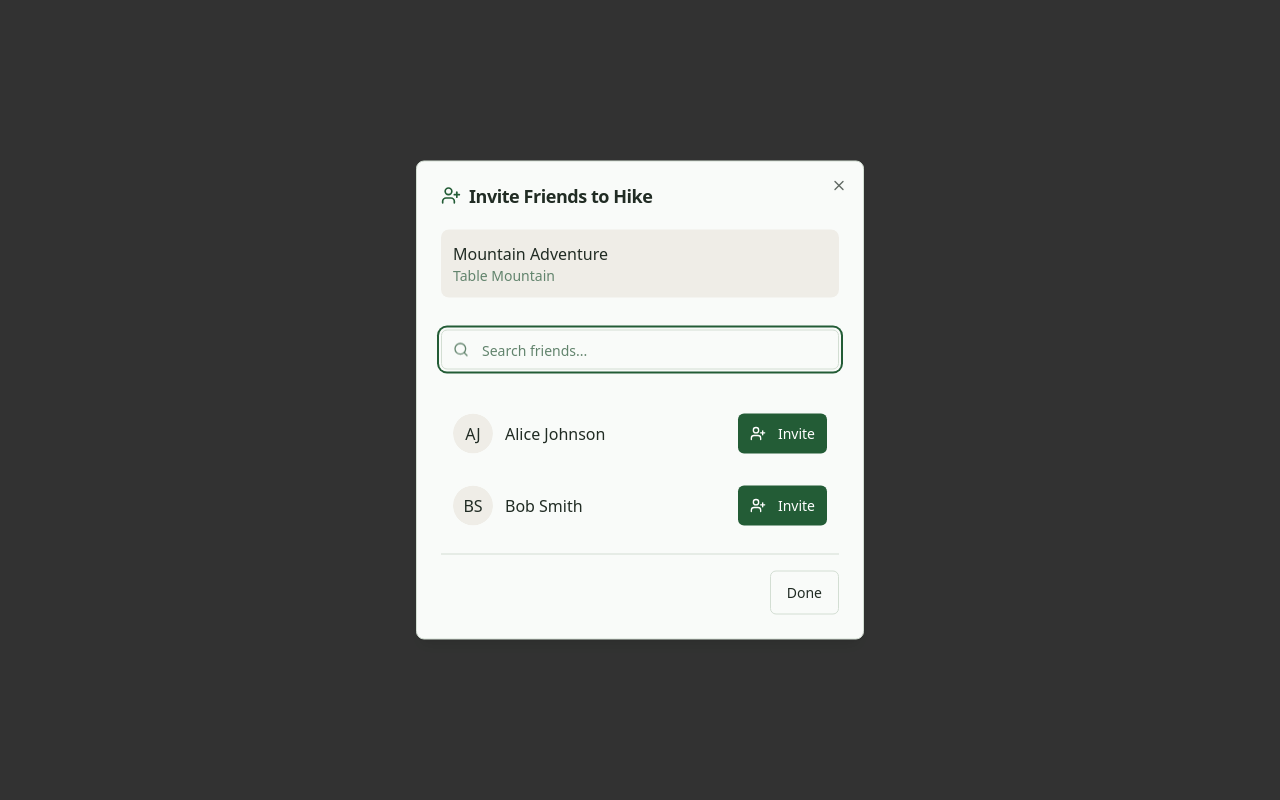
FriendInviteDialog Component › filters friends by search term
Expected: the text "Alice Johnson" is shown, [505,422,605,446]
In the field with placeholder "Search friends...": (640, 350) [441,330,839,370], type "Bob"
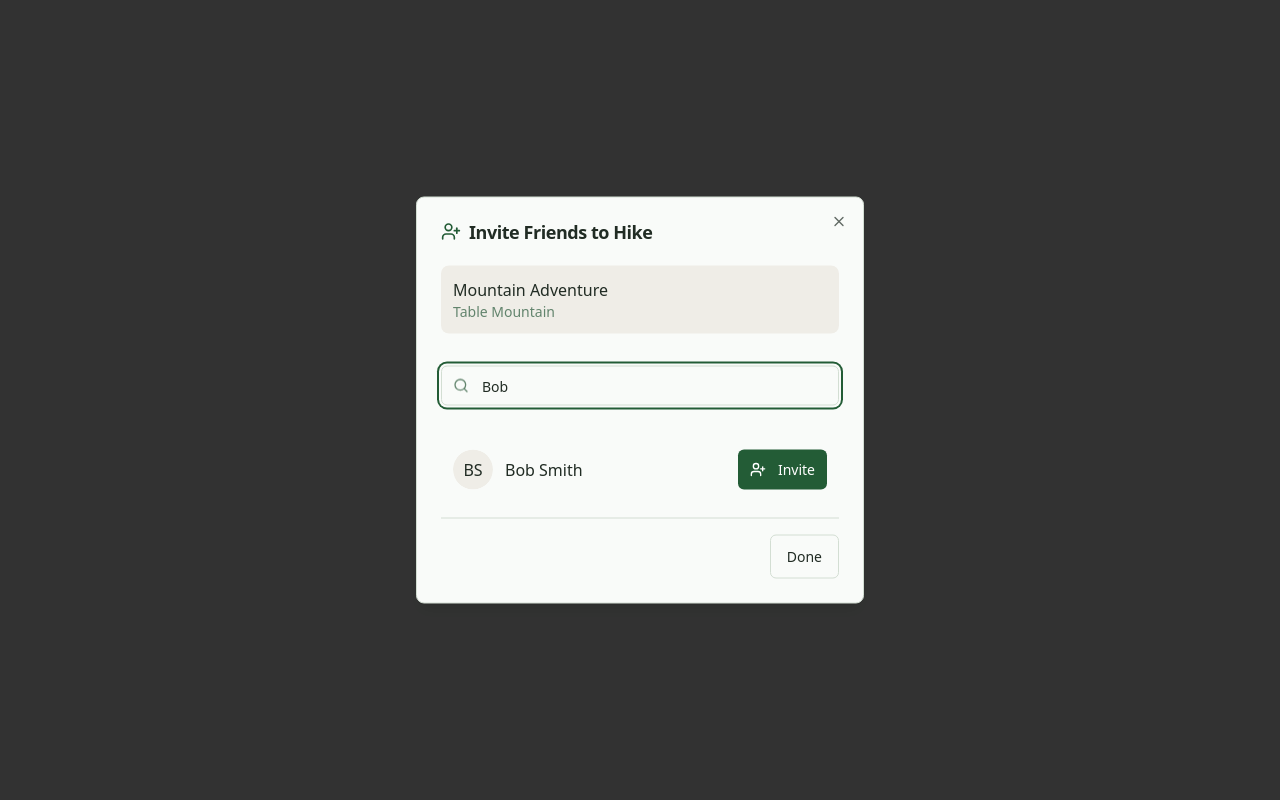
Expected: the text "Bob Smith" is shown, [505,458,583,482]
Expected: the text "Alice Johnson" is gone
